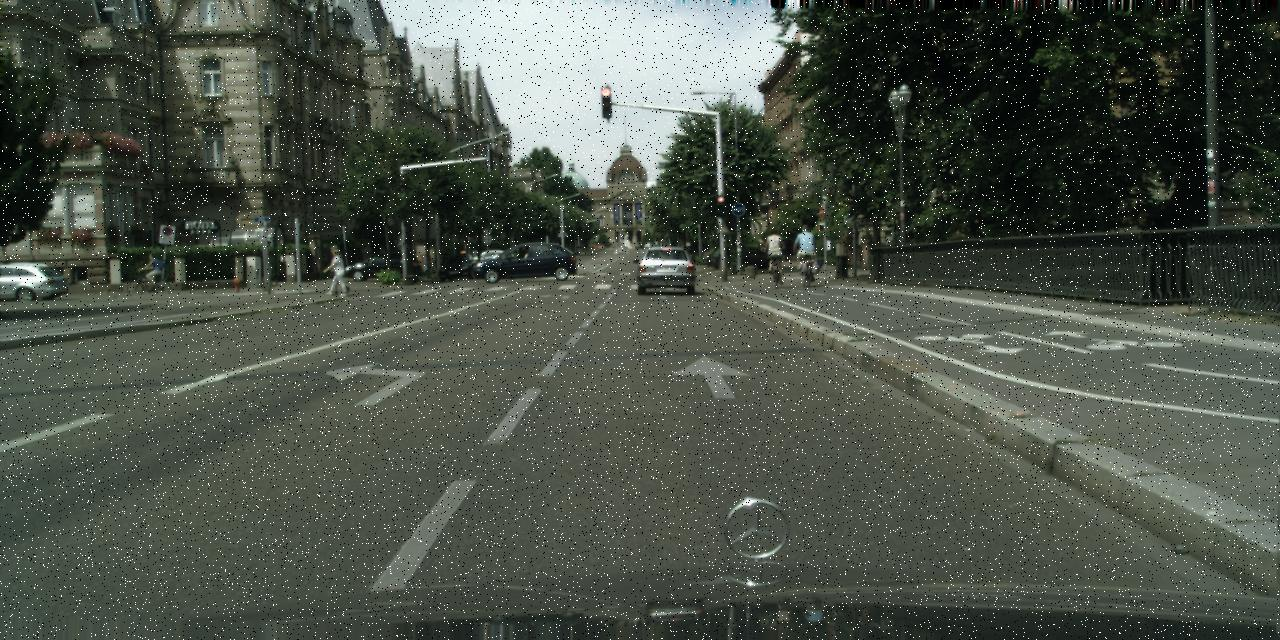ped: (795, 225, 816, 277), (764, 228, 785, 278), (327, 245, 347, 294), (328, 250, 346, 294), (148, 252, 161, 284), (470, 247, 478, 265)
